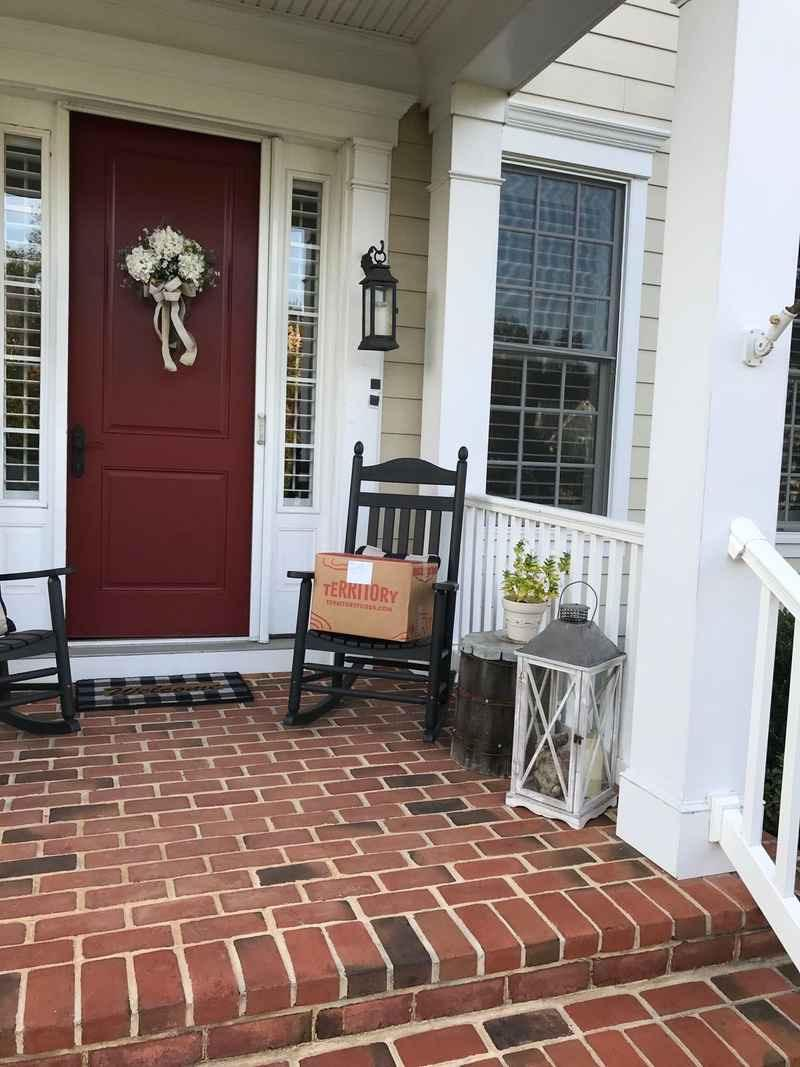package: (307, 551, 441, 647)
